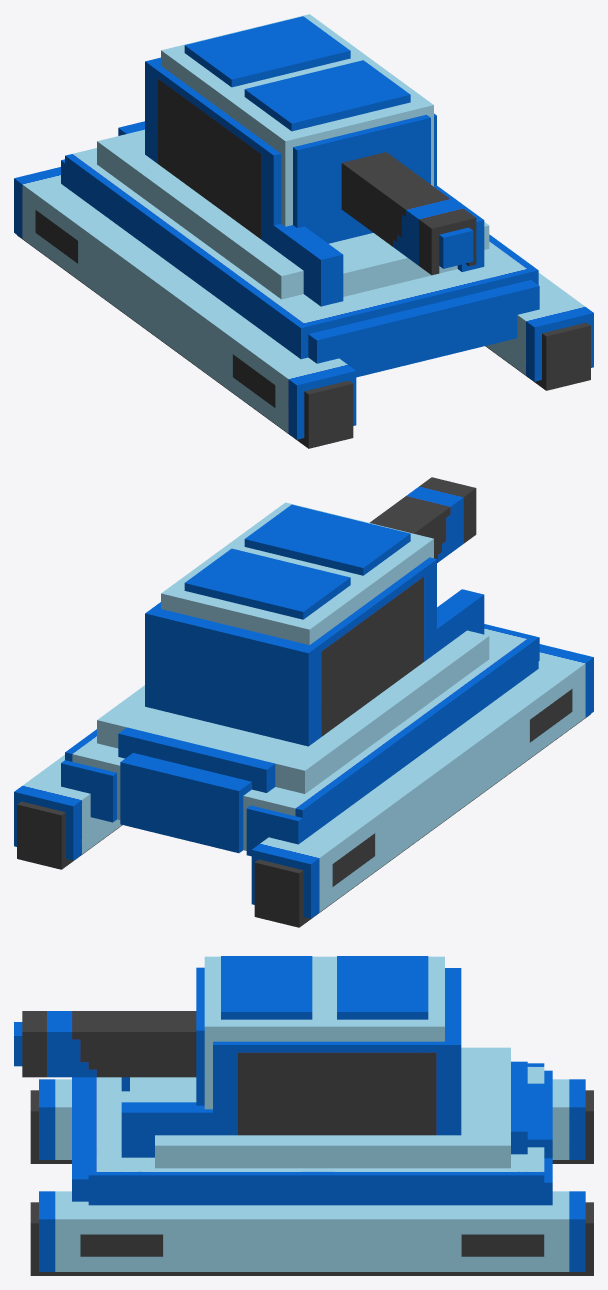
The model's file is Character_17.fbx.
3 renders of one model, top to bottom at view 1: azimuth 30°, elevation 25°; view 2: azimuth 150°, elevation 25°; view 3: azimuth 270°, elevation 25°, orthographic. The views are drawn at different scales.
Visible parts, largest first — view 1: Character_17; view 2: Character_17; view 3: Character_17.
Part boxes in pixels (x1=…): Character_17: x1=14, y1=14, x2=593, y2=448; Character_17: x1=14, y1=477, x2=593, y2=927; Character_17: x1=14, y1=956, x2=593, y2=1275.
Size of the model in its own units: 40 by 30 by 70.
